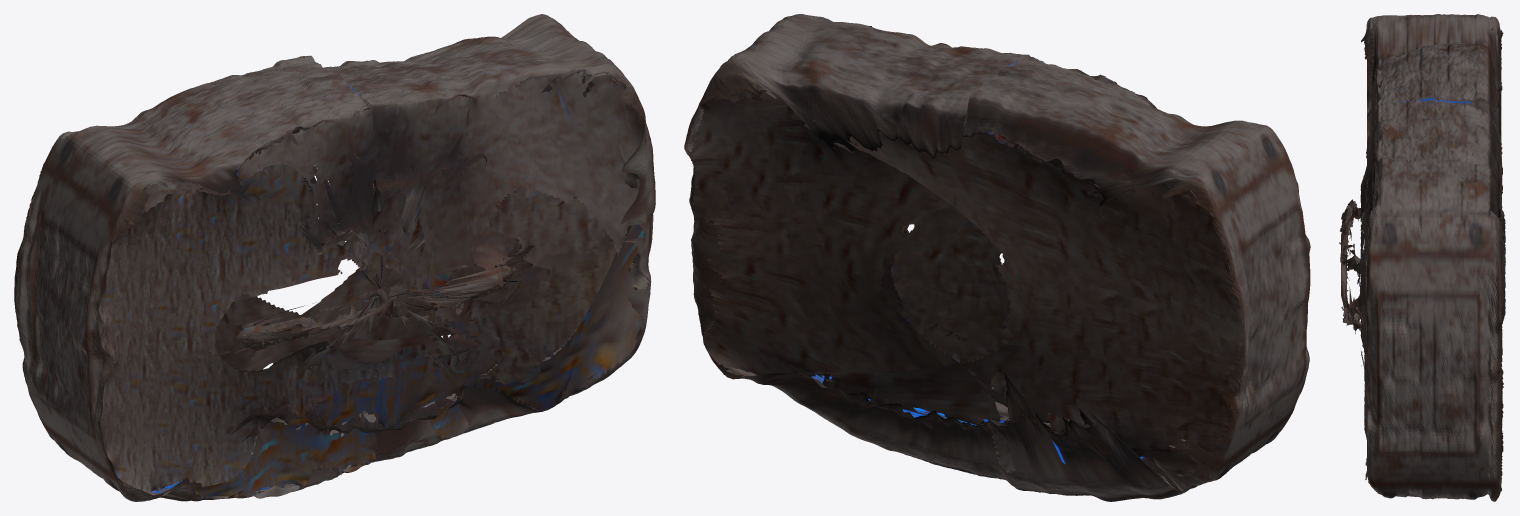
File: mesh_inpaint.glb
3 renders of one model, left to right at view 1: azimuth 30°, elevation 25°; view 2: azimuth 150°, elevation 25°; view 3: azimuth 270°, elevation 25°, orthographic. The views are drawn at different scales.
Parts seen in each view (by area): view 1: fill, ipn; view 2: fill, ipn; view 3: ipn, fill.
Part boxes in pixels (<box>): fill: <box>26,70,649,498</box>; ipn: <box>14,14,655,501</box>; fill: <box>687,26,1242,489</box>; ipn: <box>684,14,1310,501</box>; ipn: <box>1340,14,1501,501</box>; fill: <box>1339,23,1505,491</box>.
Size of the model in its own units: 1.99 by 1.33 by 0.5721.
2 materials, 1 textured.
